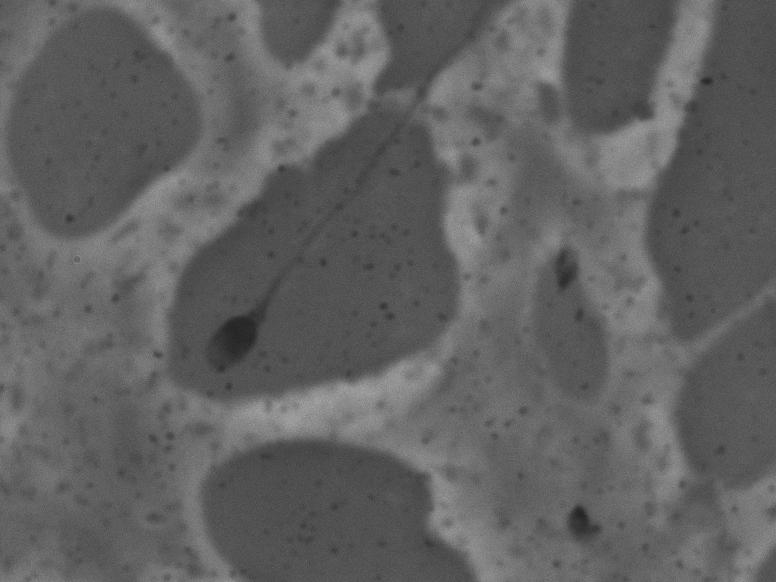Normal: (193, 33, 495, 381)
